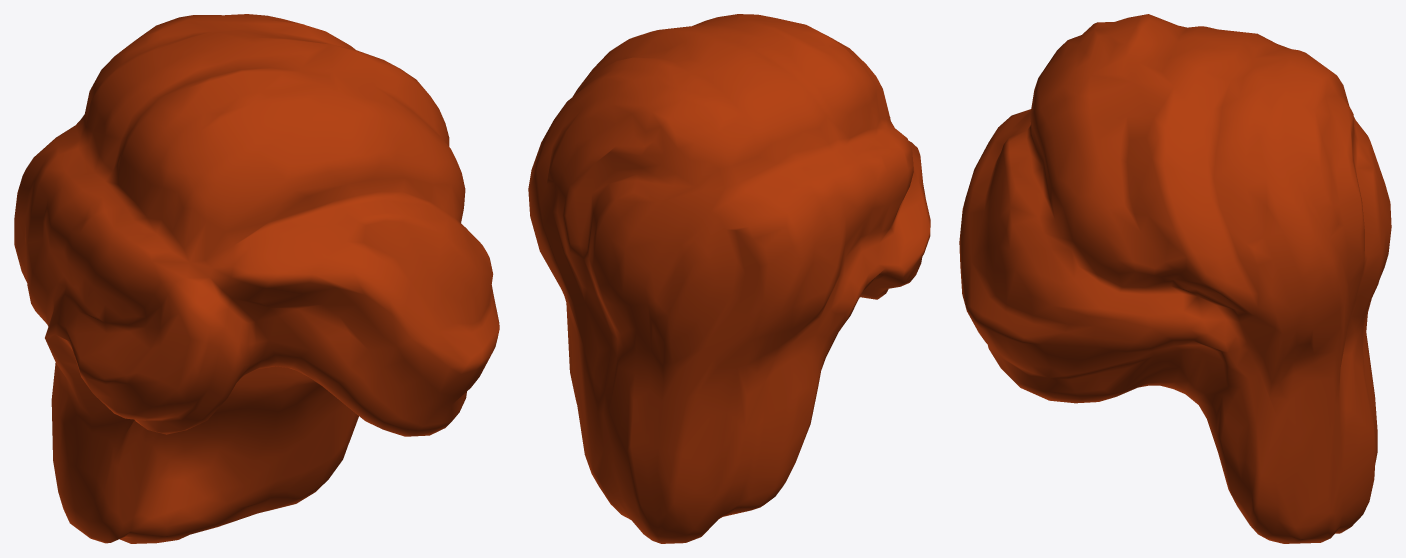
Rendered from SM_ATB_Abbi__Hair_01.FBX.
3 renders of one model, left to right at view 1: azimuth 30°, elevation 25°; view 2: azimuth 150°, elevation 25°; view 3: azimuth 270°, elevation 25°, orthographic. The views are drawn at different scales.
Parts seen in each view (by area): view 1: SM_ATB_Abbi__Hair_01; view 2: SM_ATB_Abbi__Hair_01; view 3: SM_ATB_Abbi__Hair_01.
Part boxes in pixels (x1,y1,x2,y2): SM_ATB_Abbi__Hair_01: [14, 14, 499, 543]; SM_ATB_Abbi__Hair_01: [528, 14, 930, 543]; SM_ATB_Abbi__Hair_01: [959, 14, 1391, 543].
Size of what is drawn, in the model's own units: 105 by 112 by 140.
